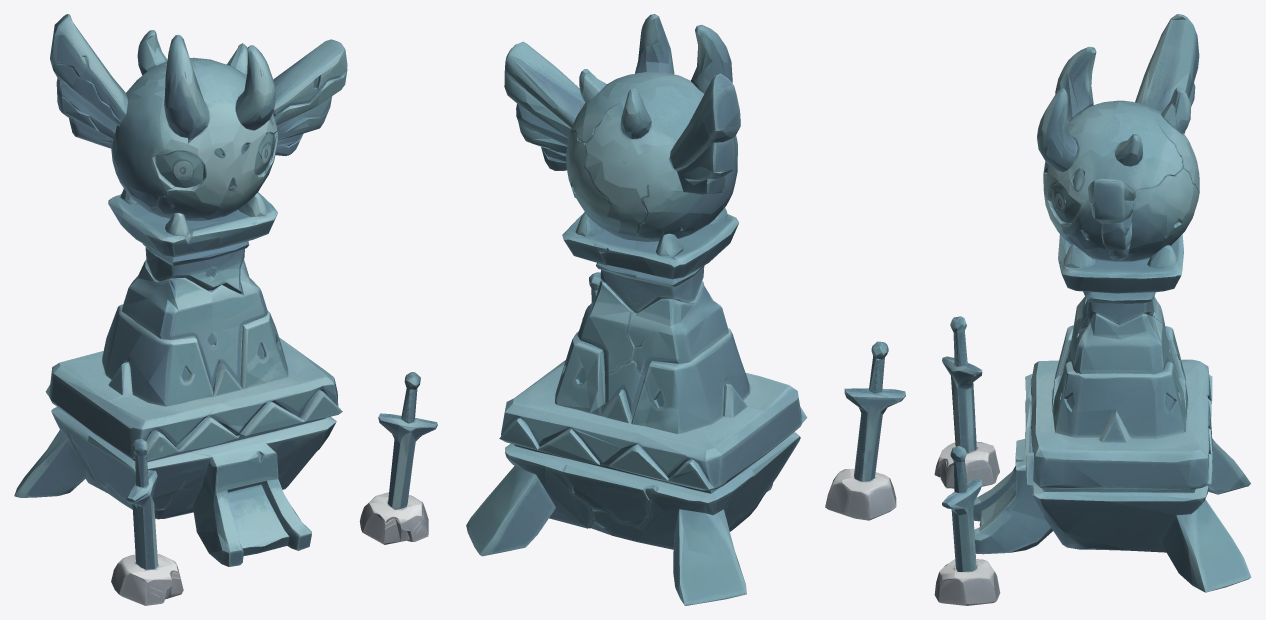
File: statue_mystic.glb
3 views of the same model, side by side, from view 1: azimuth 30°, elevation 25°; view 2: azimuth 150°, elevation 25°; view 3: azimuth 270°, elevation 25° (orthographic). The views are drawn at different scales.
Visible parts, largest first — view 1: output_unwrapped; view 2: output_unwrapped; view 3: output_unwrapped.
Part boxes in pixels (x1=…): output_unwrapped: x1=14, y1=14, x2=437, y2=605; output_unwrapped: x1=466, y1=14, x2=905, y2=605; output_unwrapped: x1=934, y1=14, x2=1251, y2=605.
Size of the model in its own units: 1.26 by 1.9 by 1.14.
1 material, 1 textured.
